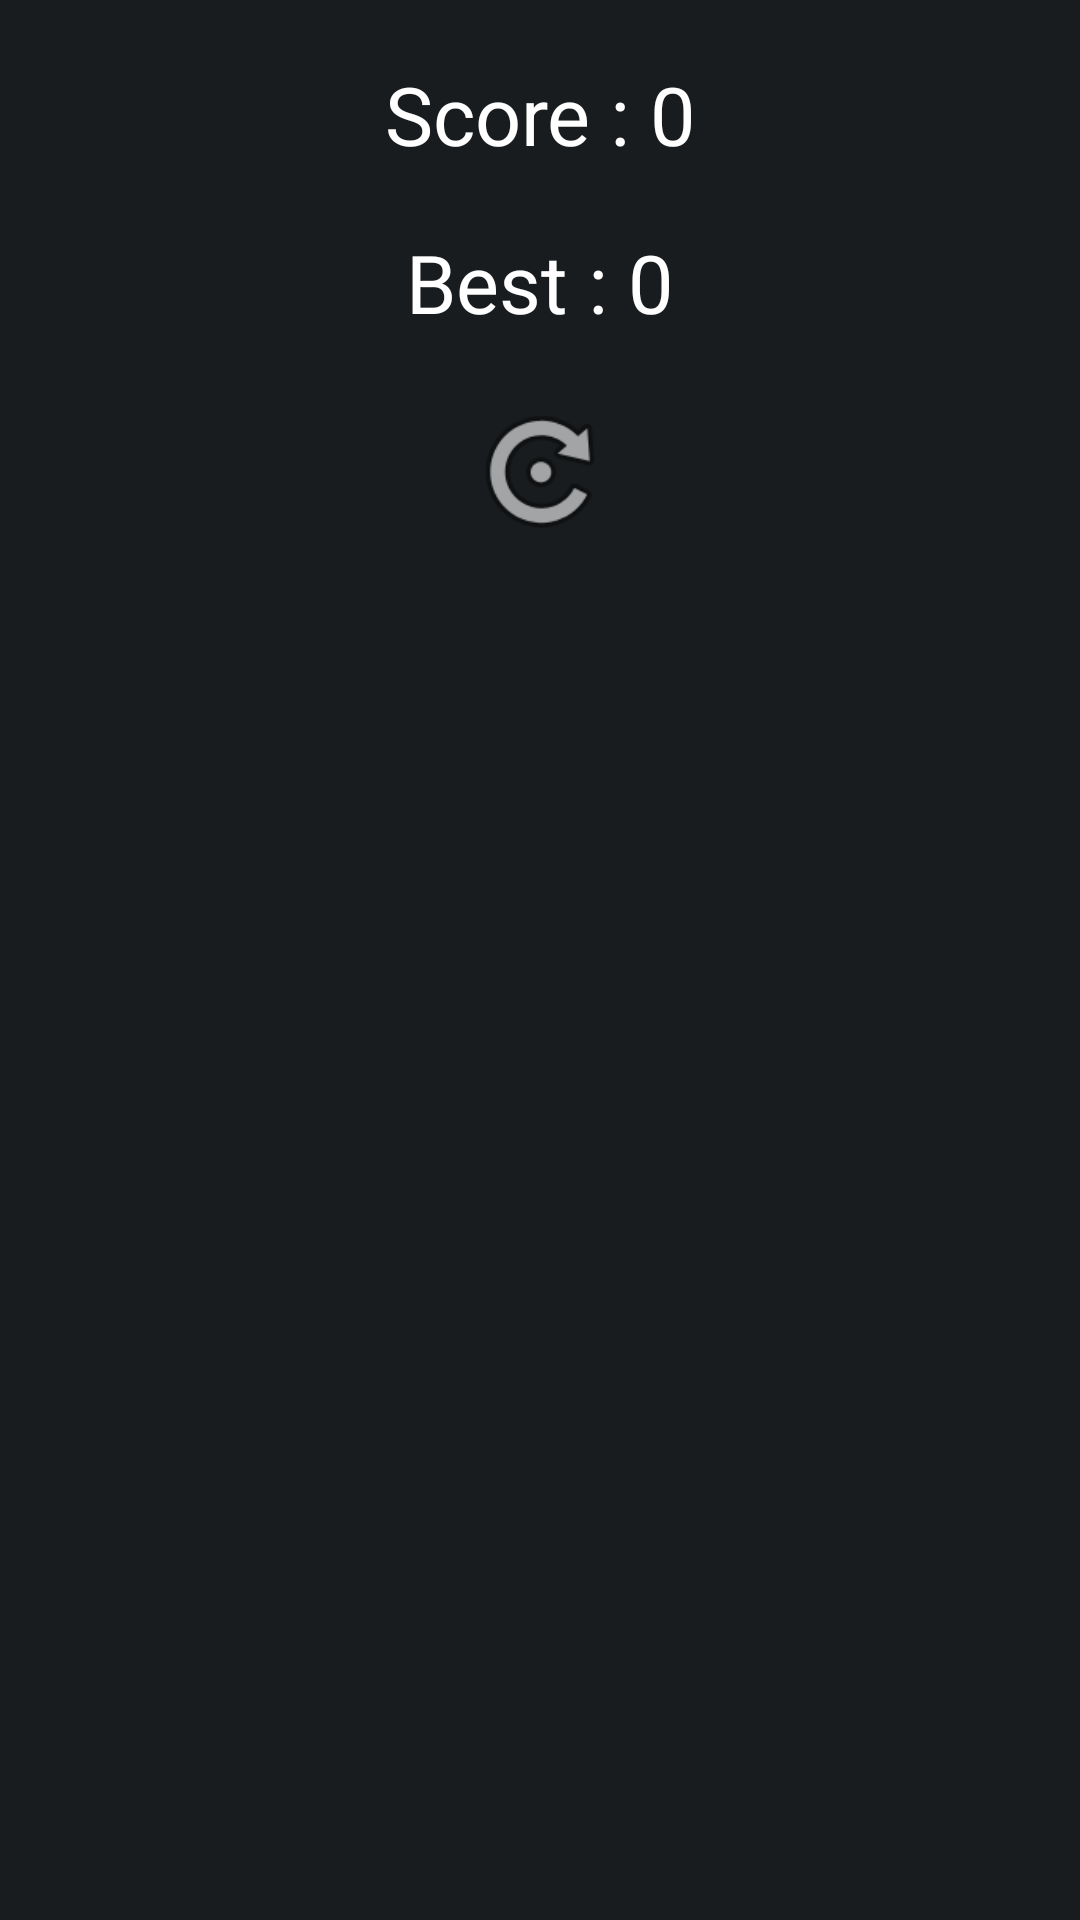

Icon bounding boxes for this 1080 × 1920 phone screenshot, format {"left": x1, "top": y1, "right": x2, "bottom": y2}:
rotate: {"left": 490, "top": 420, "right": 590, "bottom": 523}
